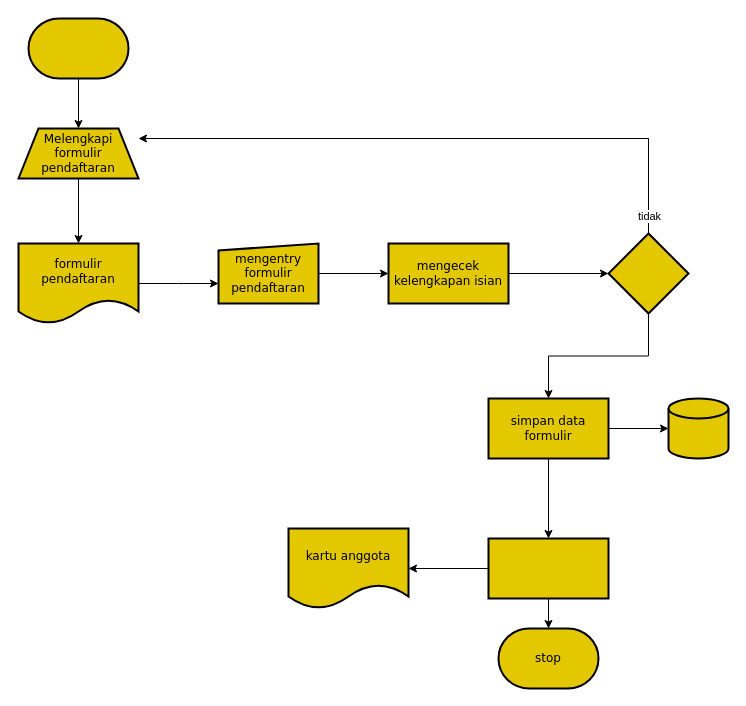
The diagram is 746 pixels wide and 706 high, and some of its shapes have lost their labels. Each missing label, with the centre of its shape:
cetak kartu anggota: pixel 548 568
isian lengkap?: pixel 648 273
Start: pixel 78 48
